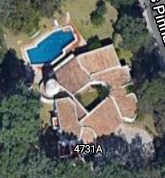pool: (29, 41, 71, 56)
